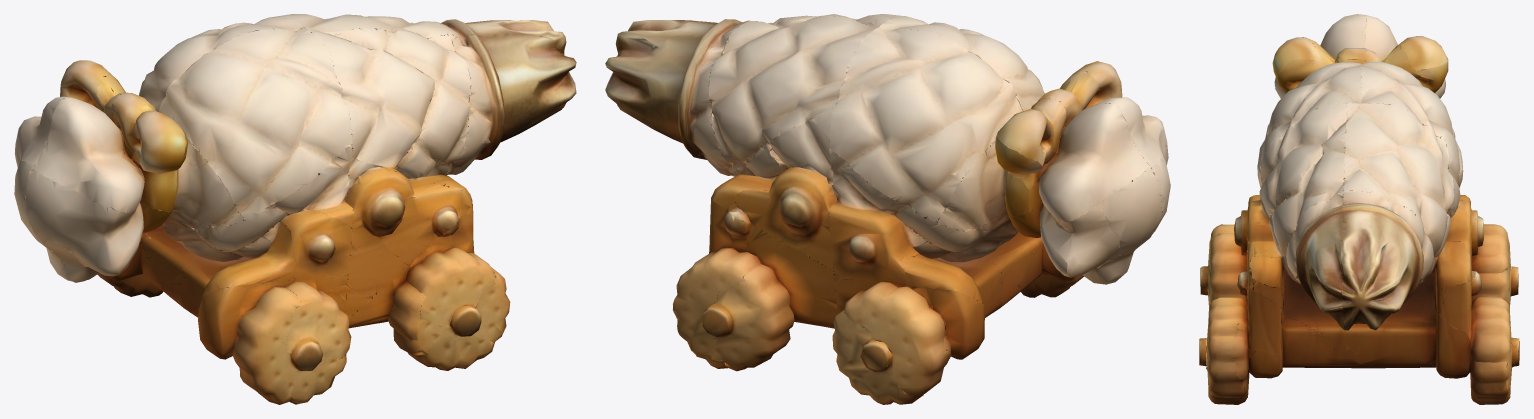
File: board-cannon-sugar-blast.glb
The picture shows the model from 3 angles, left to right: view 1: azimuth 30°, elevation 25°; view 2: azimuth 150°, elevation 25°; view 3: azimuth 270°, elevation 25°; orthographic projection. The views are drawn at different scales.
Visible parts, largest first — view 1: tripo_node_e2e21a62-b5e9-4f0d-9572-14f24536fafc; view 2: tripo_node_e2e21a62-b5e9-4f0d-9572-14f24536fafc; view 3: tripo_node_e2e21a62-b5e9-4f0d-9572-14f24536fafc.
Part boxes in pixels (x1,y1,x2,y2): tripo_node_e2e21a62-b5e9-4f0d-9572-14f24536fafc: (14, 14, 576, 404); tripo_node_e2e21a62-b5e9-4f0d-9572-14f24536fafc: (605, 14, 1170, 404); tripo_node_e2e21a62-b5e9-4f0d-9572-14f24536fafc: (1199, 14, 1519, 404).
Bounding box in the file's own units: 1 × 0.5469 × 0.5822.
1 material, 1 textured.
